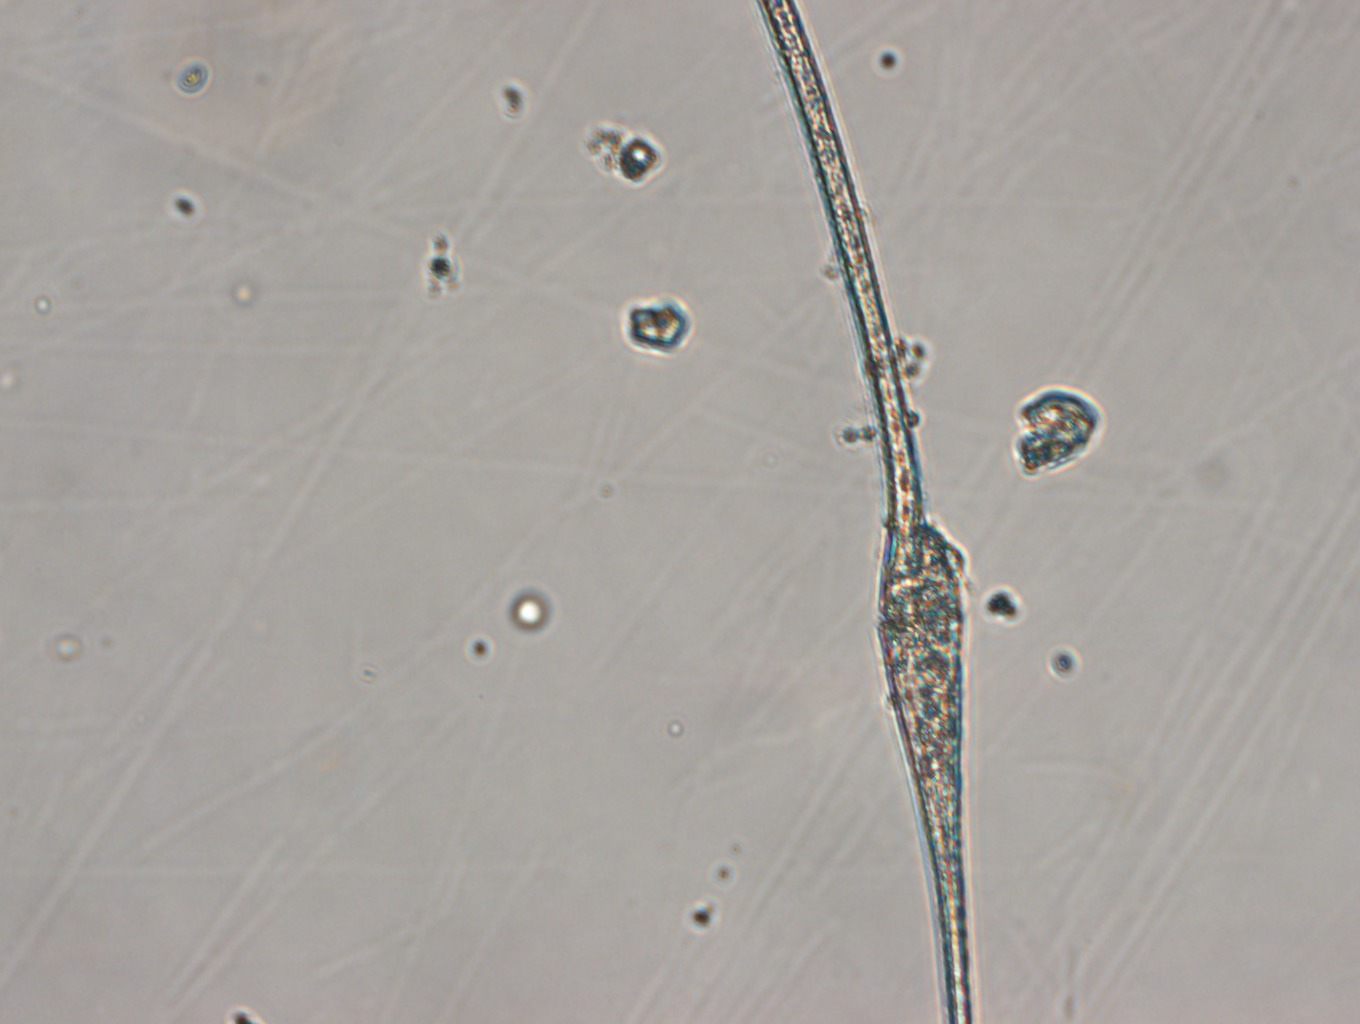ceratium fusus: (760, 13, 984, 1024)
